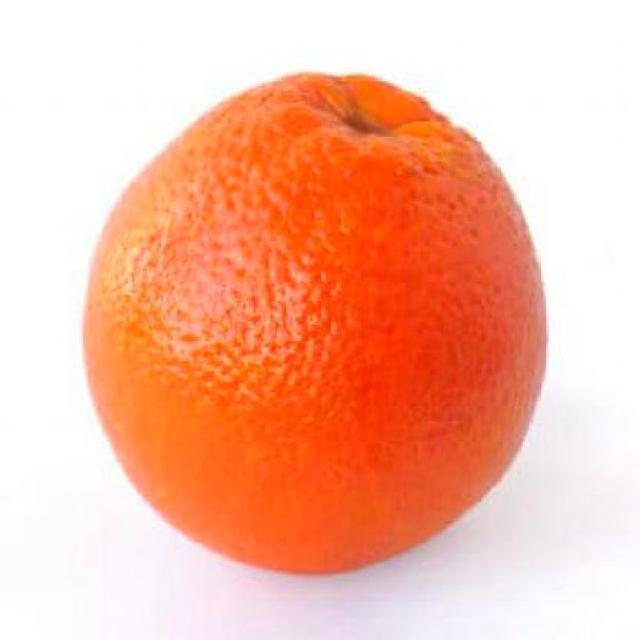Jeruk Sudah Matang: (80, 67, 548, 578)
